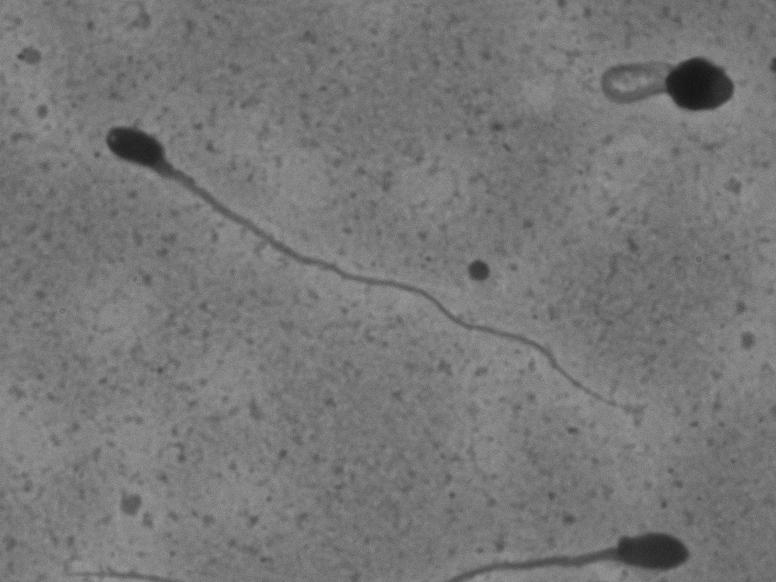Abnormal: (88, 116, 639, 420), (551, 40, 757, 136)
